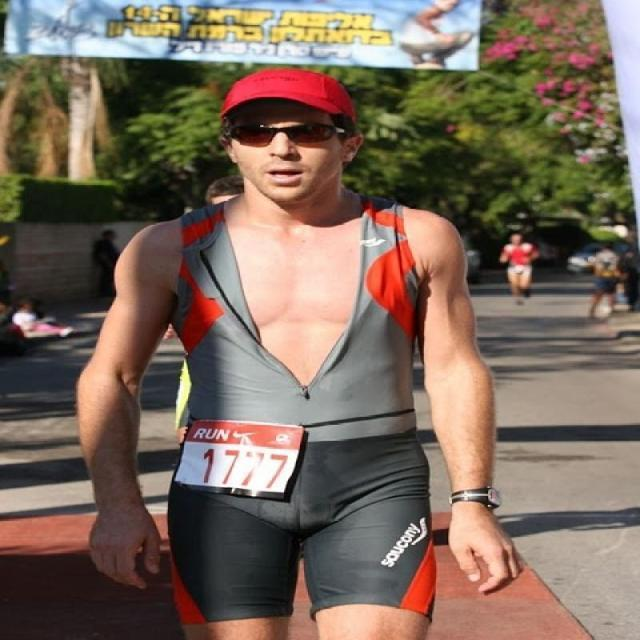dorsal: (174, 414, 312, 501)
